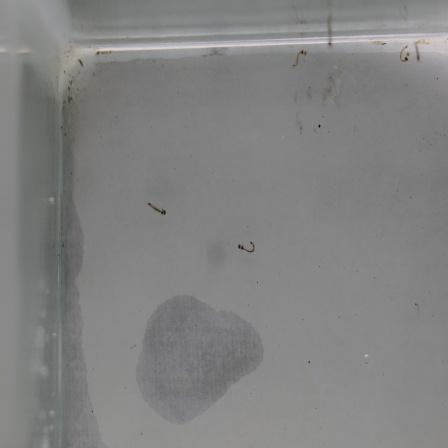Jentik-Nyamuk: (143, 198, 170, 220), (287, 47, 309, 72), (233, 234, 259, 255), (396, 40, 415, 68)
